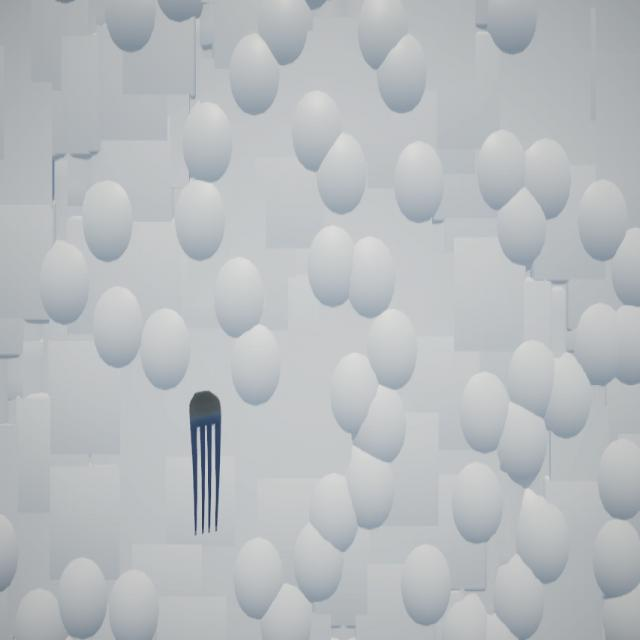top_folk: (190, 391, 222, 535)
